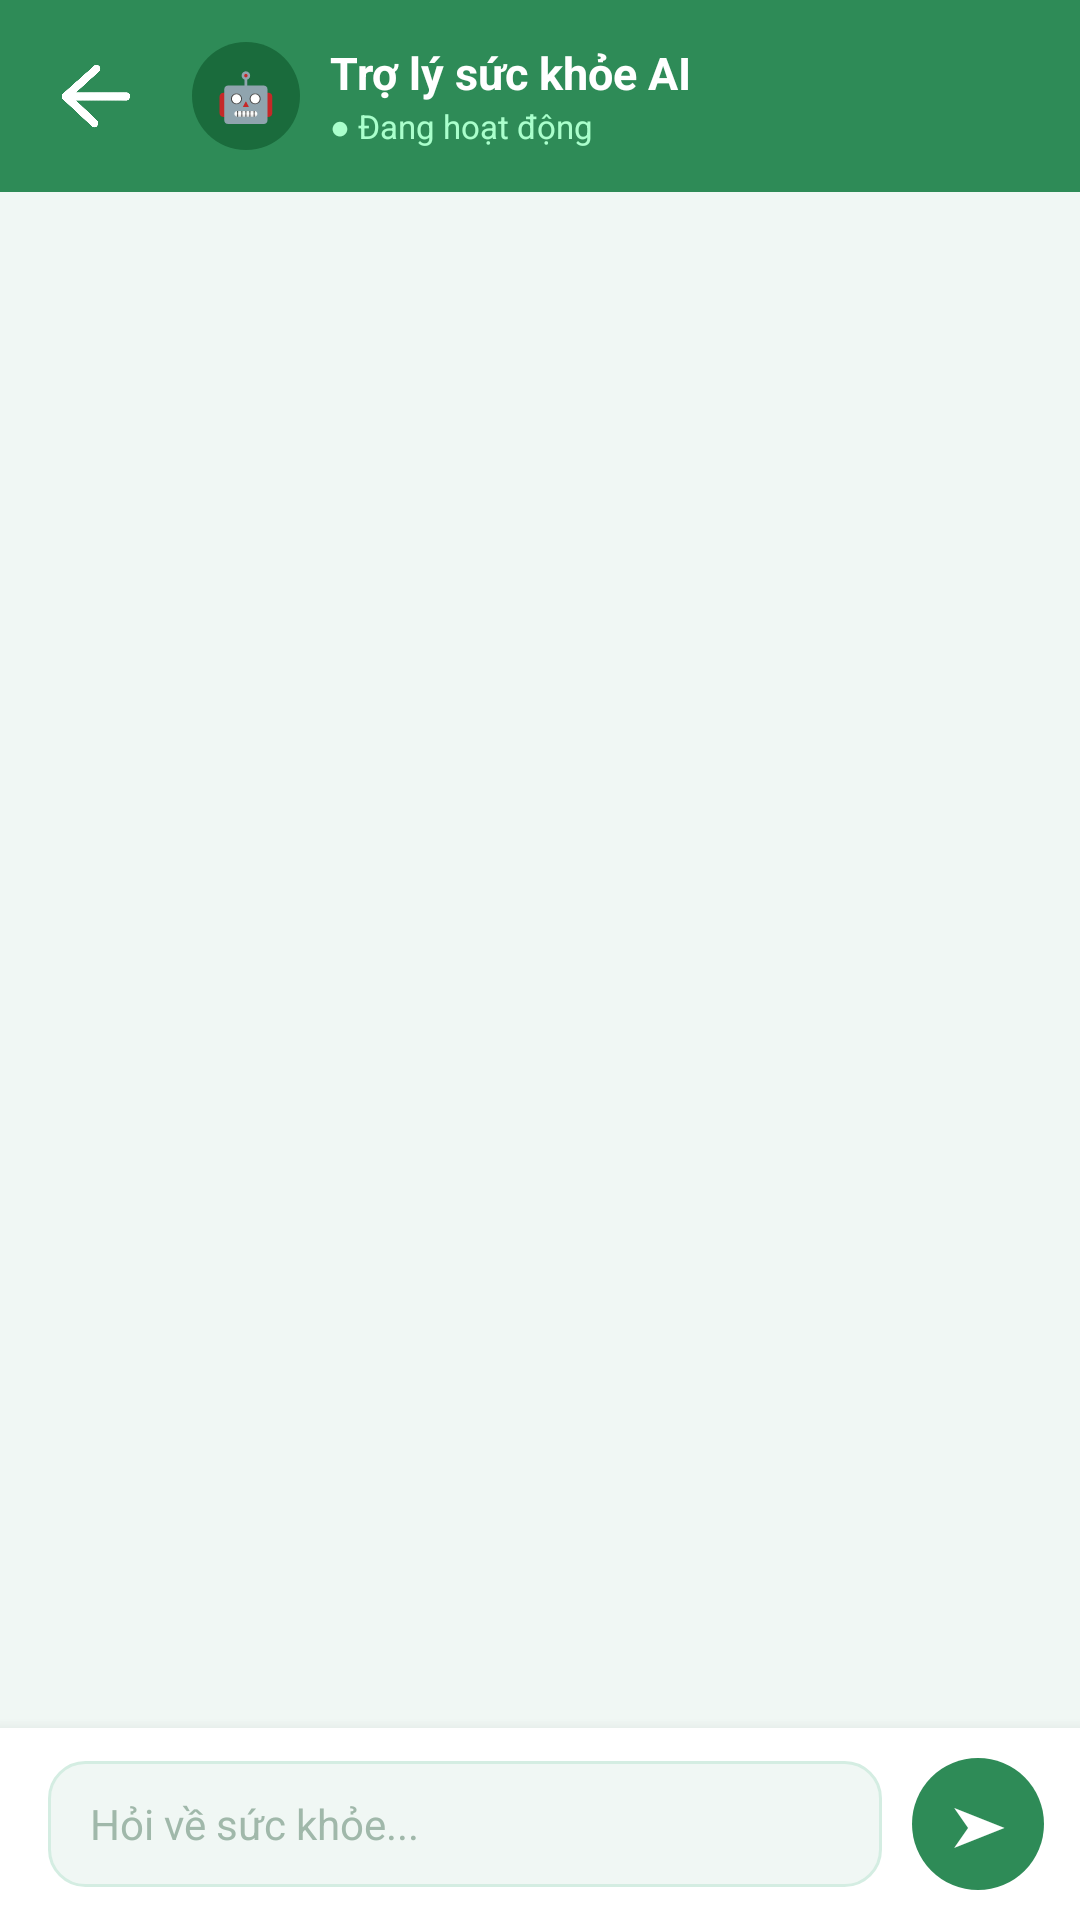

Locate icon controls on the screen. Image size 1080*1920, boxes as {"x1": x1, "y1": y1, "x2": x2, "y2": y2}.
Quay lại: {"x1": 62, "y1": 65, "x2": 130, "y2": 128}
